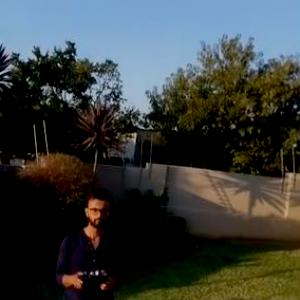follow: (50, 185, 126, 299)
